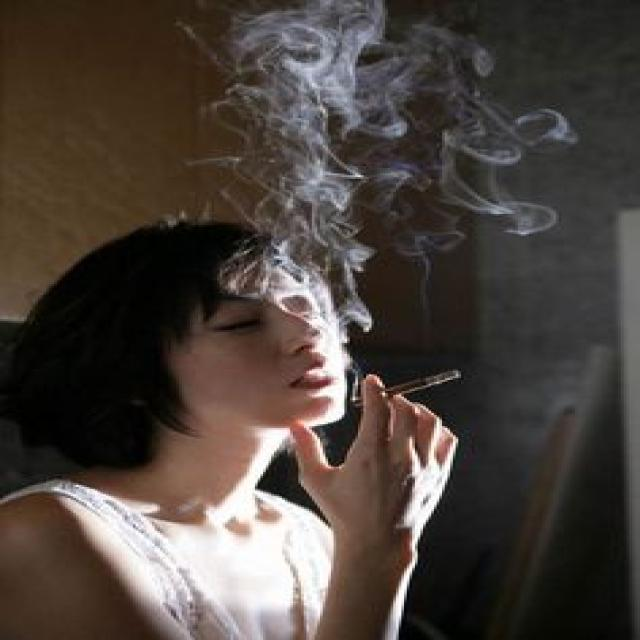rokok: (348, 370, 459, 406)
